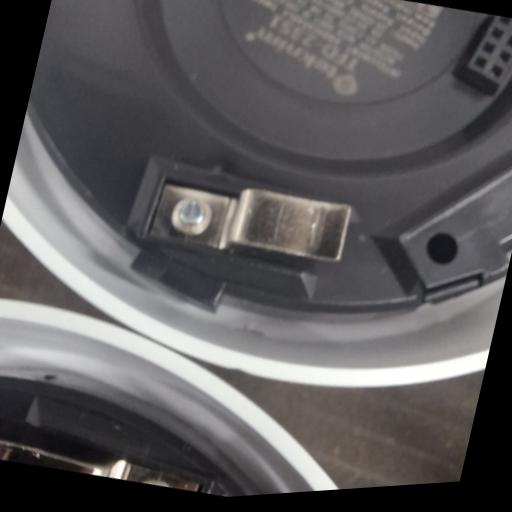yaysiz: (125, 142, 361, 295)
